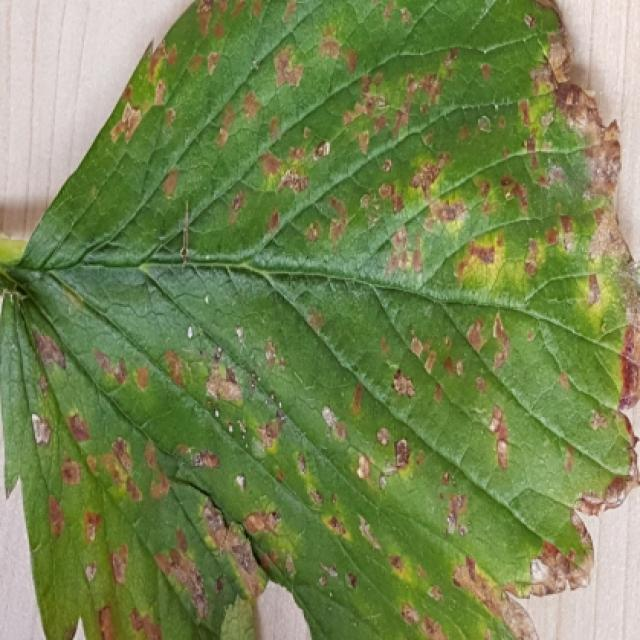Angular Leafspot: (0, 0, 638, 638)
